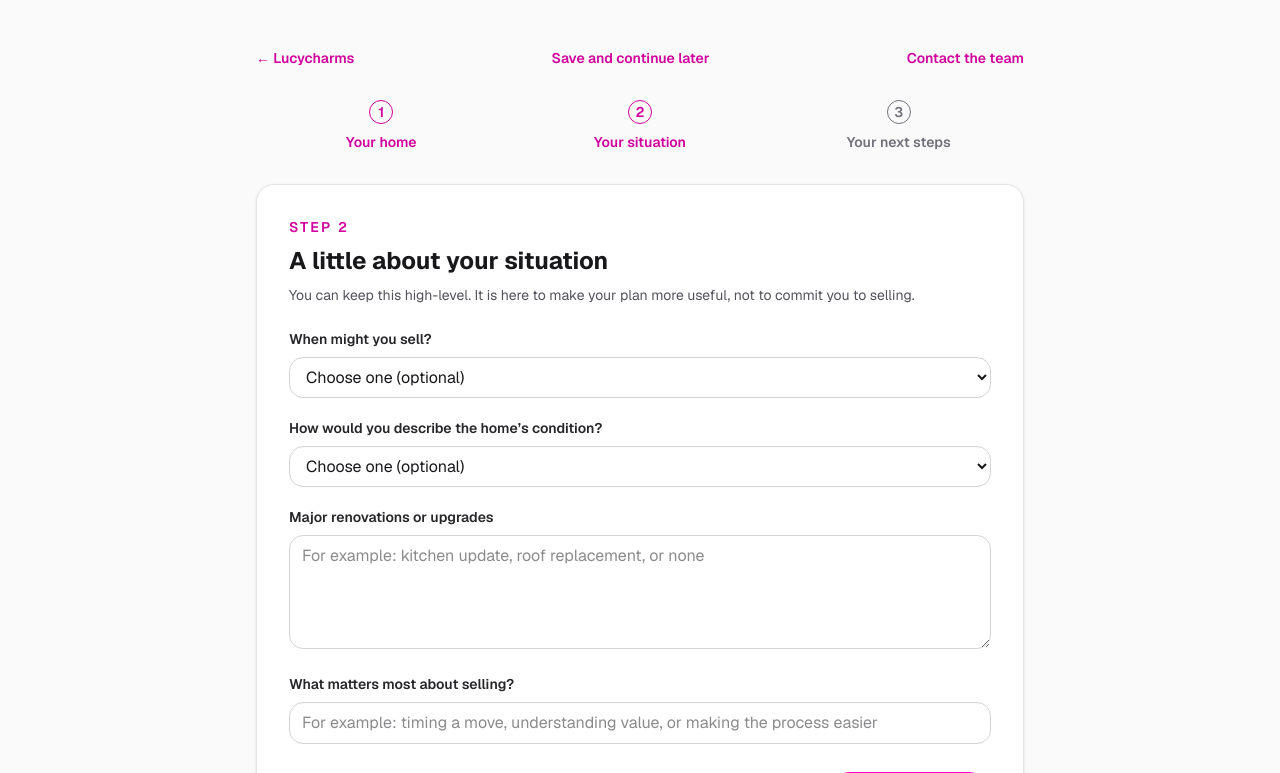
Scenario: save-for-later persists edited situation answers before offering sign-in
Step 1. Replace the text in the field labelled "What matters most about selling?" with "Move next spring" → (640, 723), box [289, 702, 991, 744]
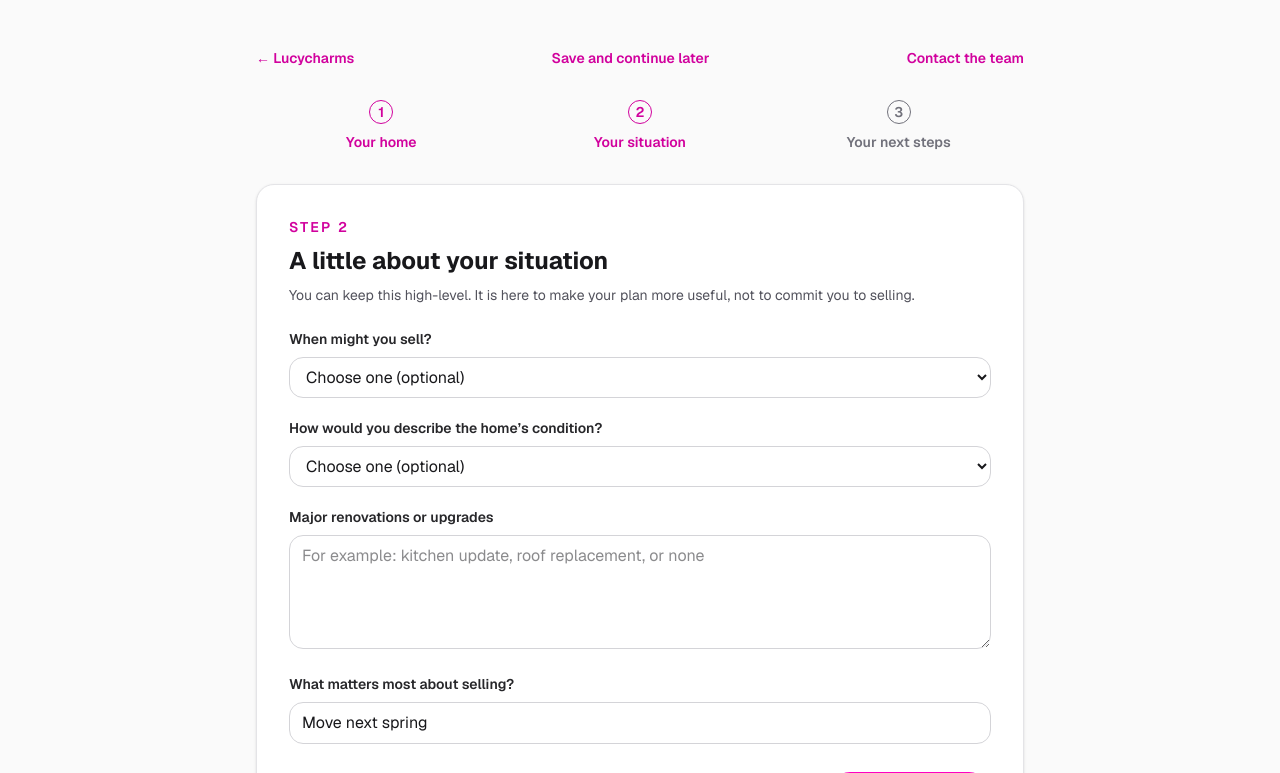
Step 2. Click the button "Save and continue later" → click(630, 58), box [552, 48, 709, 68]
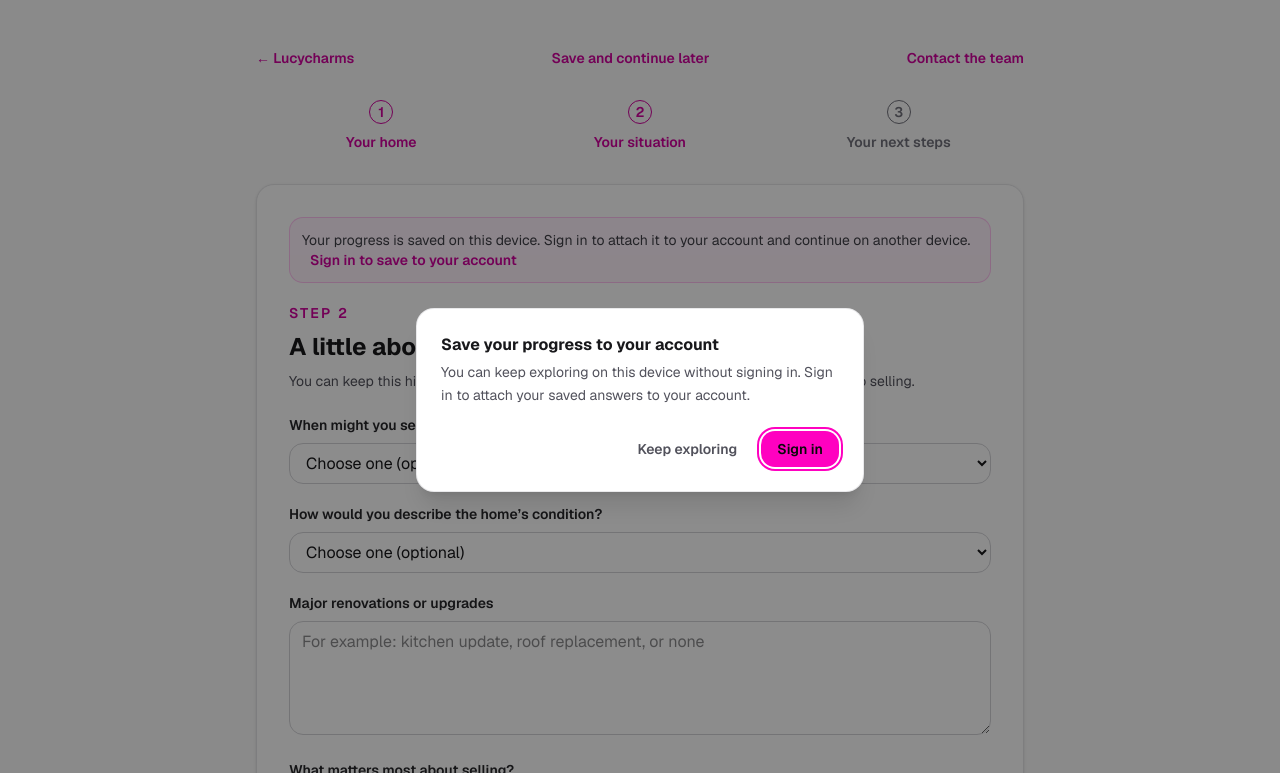
Expected: the dialog "Save your progress to your account" is shown, [416, 308, 864, 492]
